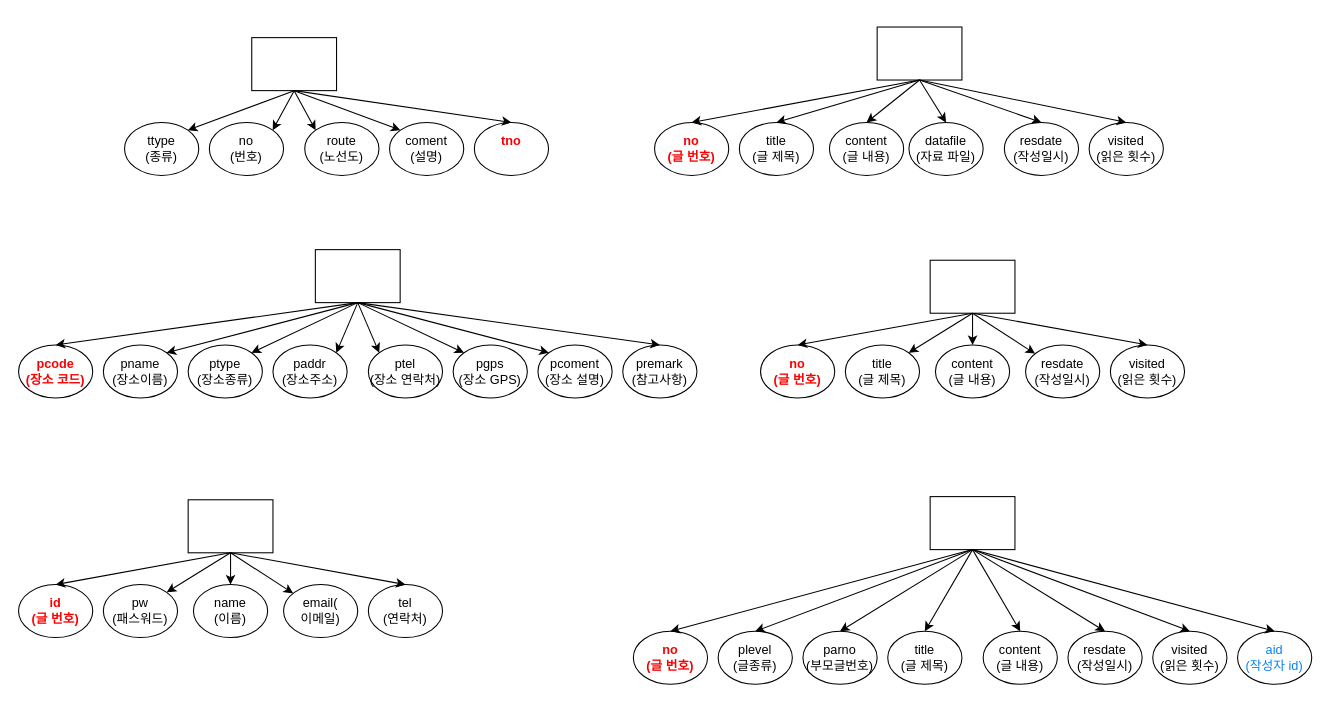
Image size: 1330x703. Some labels were removed from this diagram. The shapes that lost their labels are listed below. From the top down, each one's centre as x and y in pixels, then its label:
pixel 294 64: traffic (교통편)
pixel 919 53: data (자료실)
pixel 357 276: guide (안내사항)
pixel 972 286: notice (공지사항)
pixel 230 526: member
pixel 972 523: qna (묻고 답하기)
